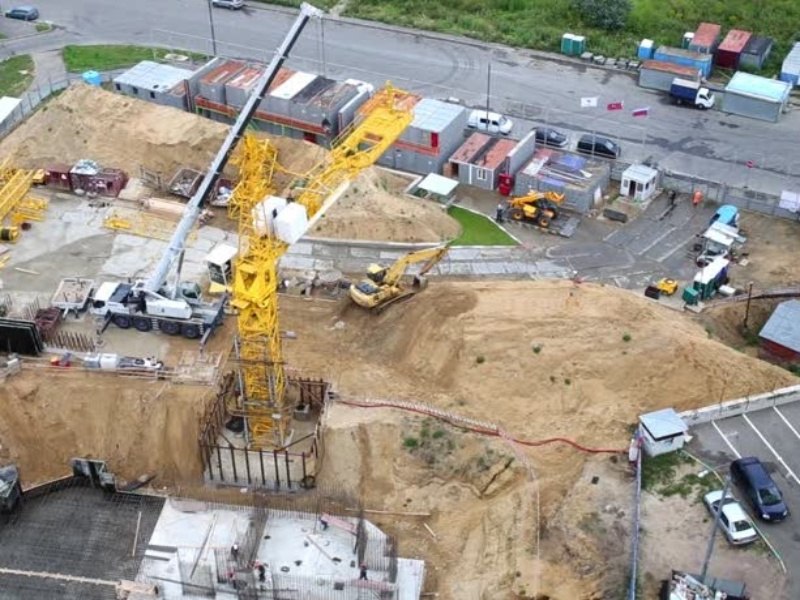crane: (87, 1, 329, 339)
excavator: (345, 240, 449, 319)
vehicle: (730, 457, 790, 527), (703, 490, 760, 548), (508, 188, 566, 232), (668, 78, 716, 113), (3, 3, 42, 23)
